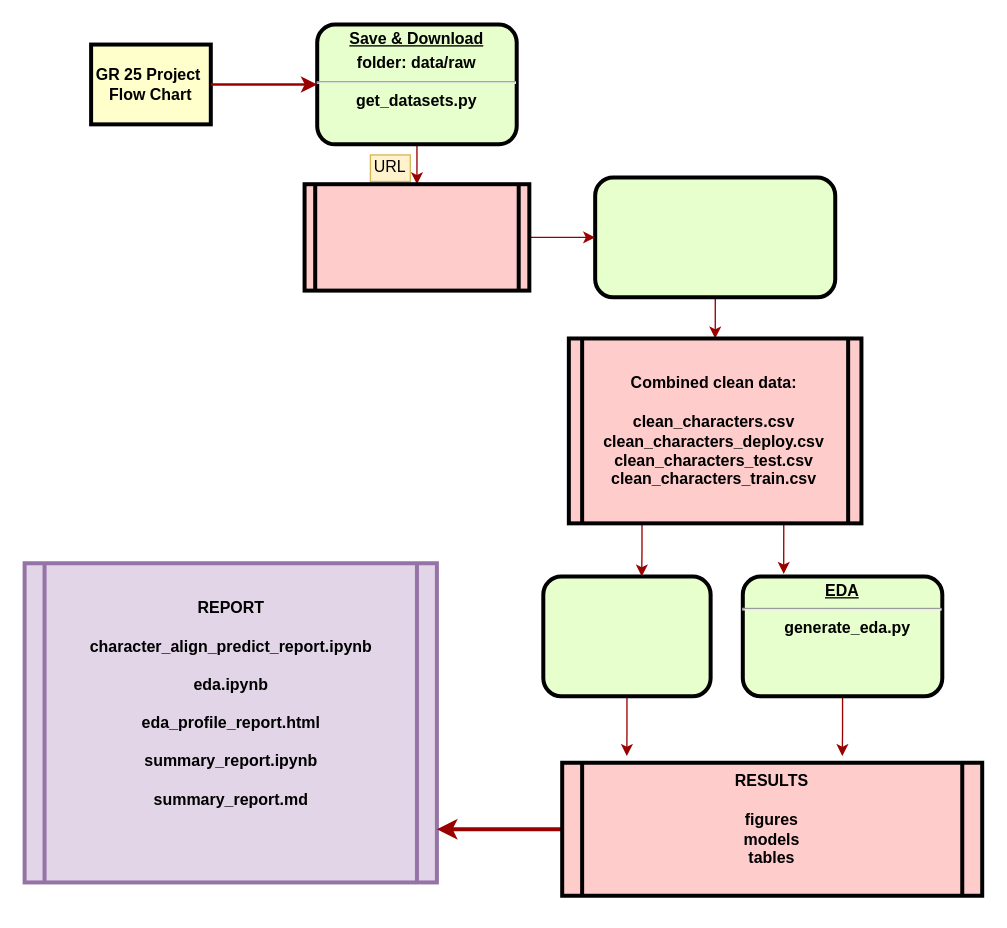
The diagram is 1007 pixels wide and 928 high, and some of its shapes have lost their labels. Here are the shapes that lost their labels. From the top down, the centre of each, then its label:
At (x=416, y=237): "Downloaded data: dc-wikia-data.csv marvel-wikia-data.csv".
At (x=715, y=237): "Clean Data & Combine folder: data/processed preprocess_data.py".
At (x=626, y=636): "Analysis analysis.py".
